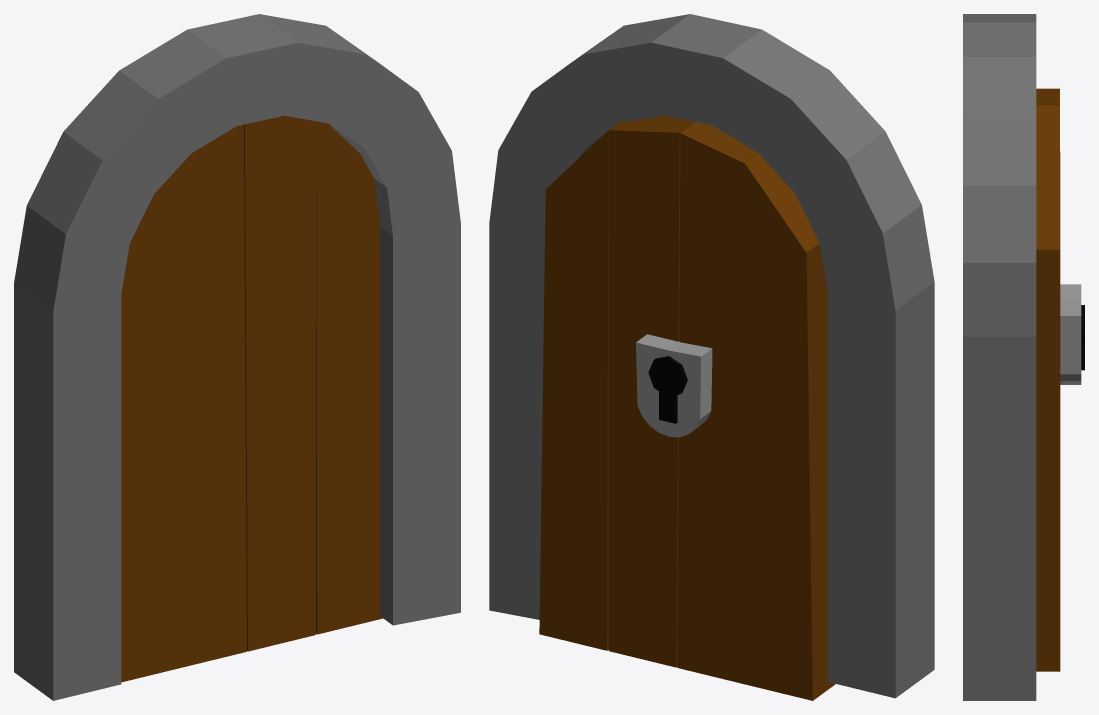
The model's file is LargeLockedDoor.fbx.
3 renders of one model, left to right at view 1: azimuth 30°, elevation 25°; view 2: azimuth 150°, elevation 25°; view 3: azimuth 270°, elevation 25°, orthographic. The views are drawn at different scales.
Parts seen in each view (by area): view 1: LargeDoorArch, Cube__5_, Cube__3_, Cube__6_, Cube__4_; view 2: LargeDoorArch, Cube__4_, Cube__5_, Cube__3_, Cube__6_, Lock, Cylinder__1_; view 3: LargeDoorArch, Cube__6_, Lock, Cube__5_, Cube__3_.
Boxes of the visible parts, x1,y1,x2,y2 form: LargeDoorArch: (14, 14, 460, 700); Cube__5_: (244, 115, 315, 651); Cube__3_: (179, 124, 246, 668); Cube__6_: (316, 121, 382, 634); Cube__4_: (121, 167, 178, 682); LargeDoorArch: (489, 14, 934, 698); Cube__4_: (745, 154, 835, 700); Cube__5_: (608, 115, 695, 667); Cube__3_: (677, 122, 758, 684); Cube__6_: (539, 124, 616, 650); Lock: (636, 334, 712, 437); Cylinder__1_: (648, 356, 687, 396); LargeDoorArch: (963, 14, 1036, 700); Cube__6_: (1036, 151, 1060, 671); Lock: (1060, 284, 1081, 384); Cube__5_: (1036, 105, 1059, 151); Cube__3_: (1036, 88, 1059, 104).
Bounding box in the file's own units: 600 × 860 × 166.
